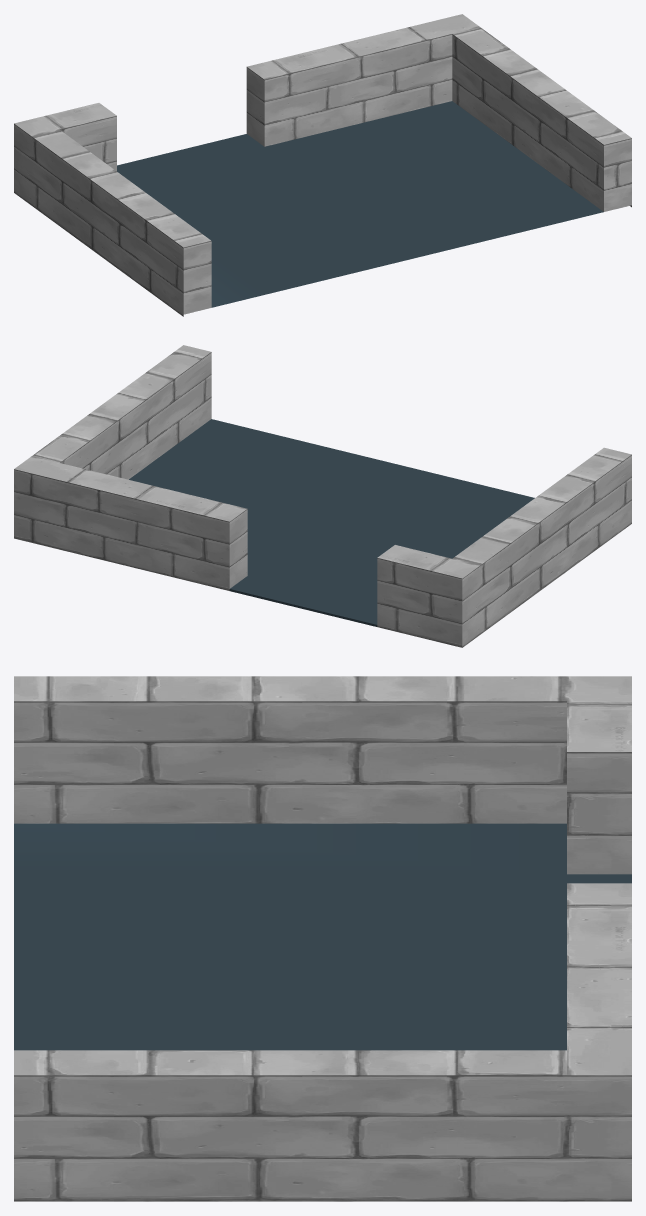
The model's file is Enrejado-1.FBX.
3 renders of one model, top to bottom at view 1: azimuth 30°, elevation 25°; view 2: azimuth 150°, elevation 25°; view 3: azimuth 270°, elevation 25°, orthographic. The views are drawn at different scales.
Visible parts, largest first — view 1: Enrejado; view 2: Enrejado; view 3: Enrejado.
Part boxes in pixels (left/top/right/bottom): Enrejado: left=14, top=14, right=631, bottom=316; Enrejado: left=14, top=345, right=631, bottom=647; Enrejado: left=14, top=676, right=631, bottom=1201.
Bounding box in the file's own units: 591 × 387 × 87.43.
